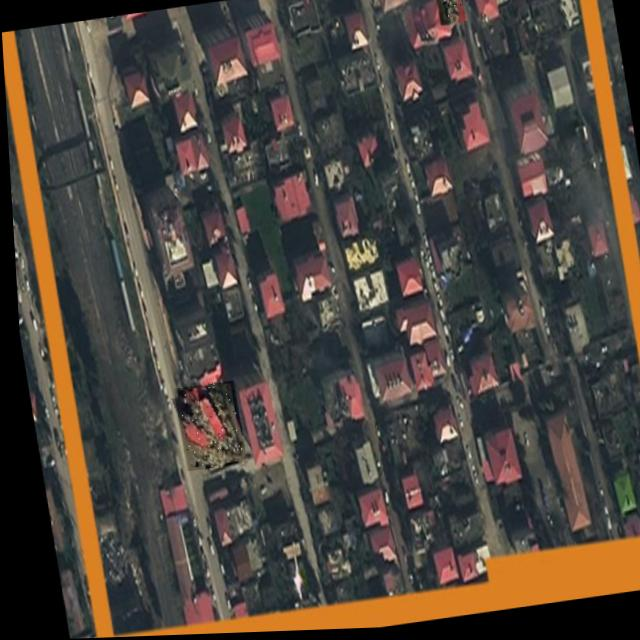Rubble: (168, 382, 241, 473), (432, 0, 465, 28)
